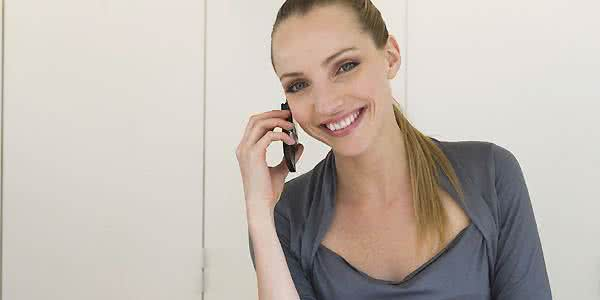phone: (280, 102, 302, 176)
